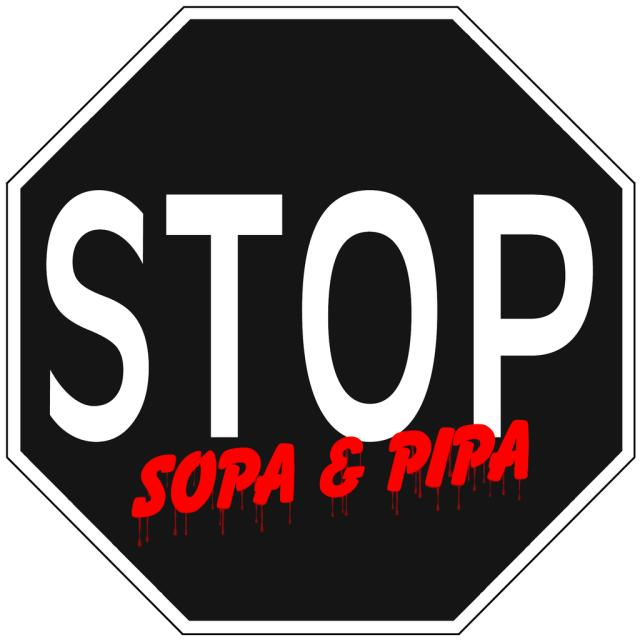Stop-sign: (5, 5, 629, 640)
